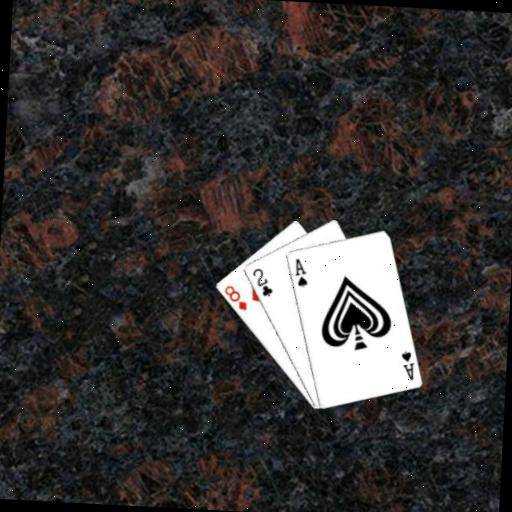2C: (248, 265, 275, 298)
8D: (220, 282, 250, 312)
AS: (397, 347, 417, 382), (290, 256, 310, 289)
